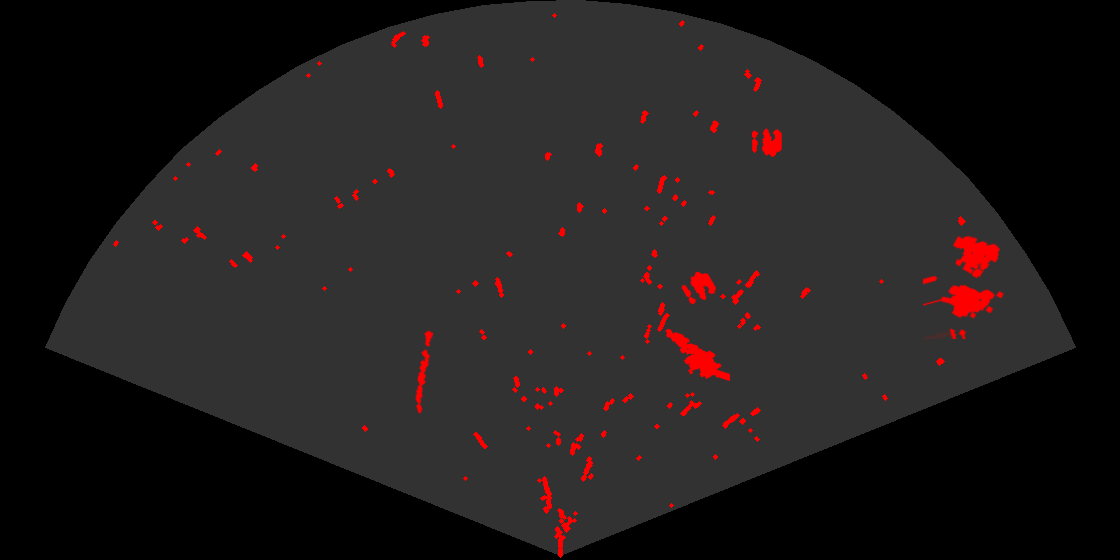ball: (680, 270, 718, 306), (750, 127, 783, 158)
cage: (923, 234, 1006, 339)
chain: (414, 327, 435, 415)
frogman: (664, 327, 730, 383)
